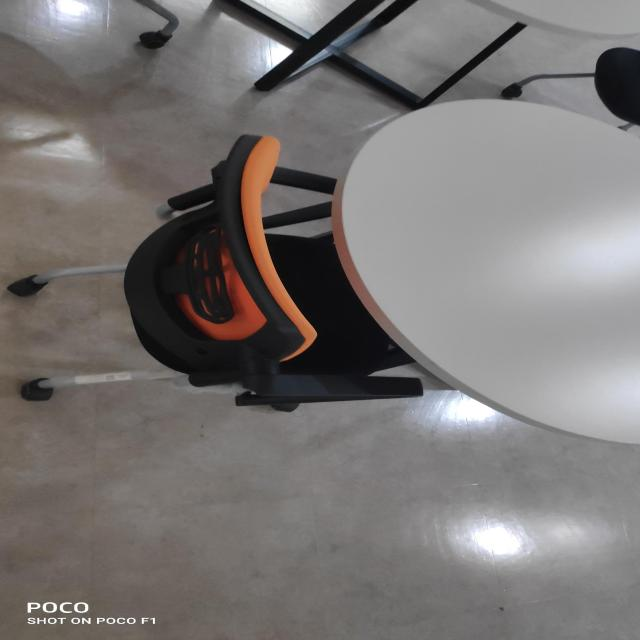Chair: (0, 129, 427, 453)
Table: (332, 61, 640, 505)
